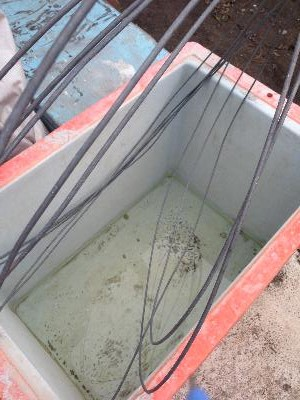box: (1, 39, 300, 398)
